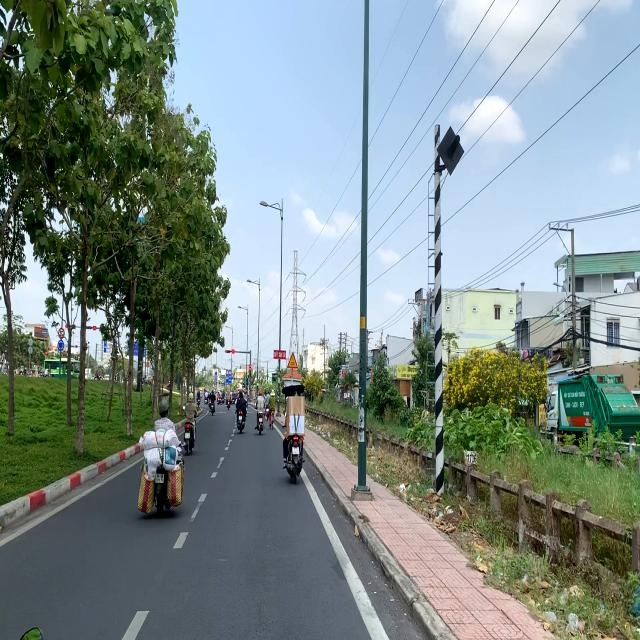bien_nguy_hiem: (287, 351, 298, 369)
